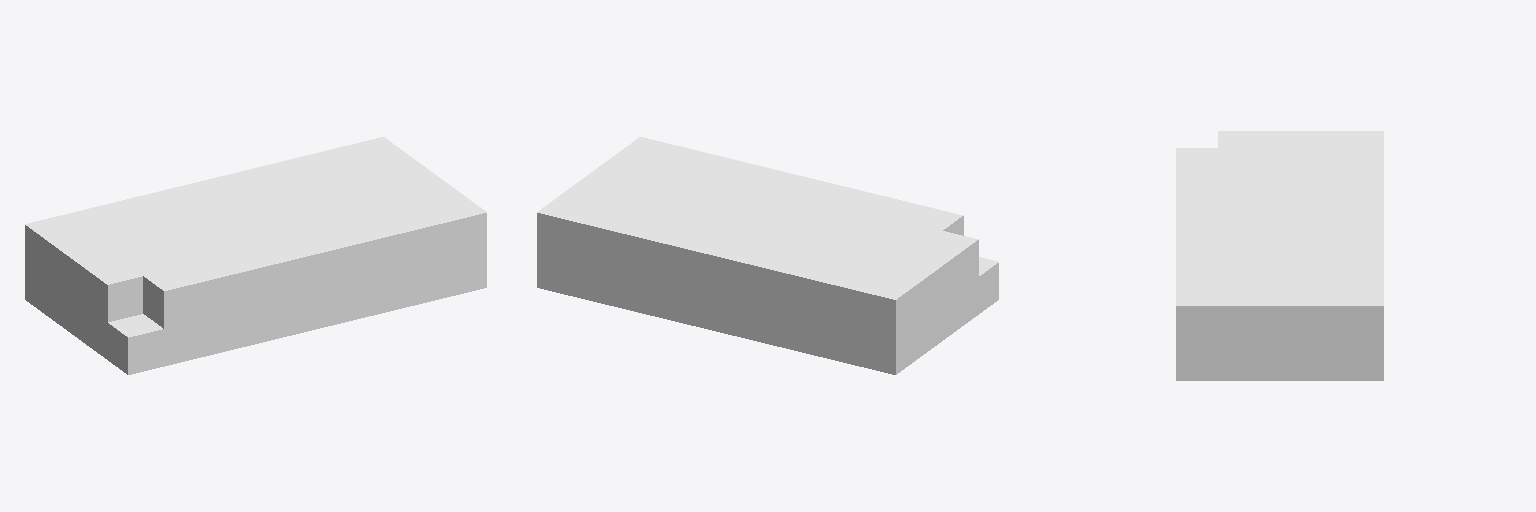
The model's file is platform2.obj.
The picture shows the model from 3 angles: view 1: azimuth 30°, elevation 25°; view 2: azimuth 150°, elevation 25°; view 3: azimuth 270°, elevation 25°; orthographic projection.
Parts seen in each view (by area): view 1: platform2; view 2: platform2; view 3: platform2.
Boxes of the visible parts, <box> form: platform2: <box>25,137,486,374</box>; platform2: <box>537,137,998,374</box>; platform2: <box>1176,131,1383,380</box>.
Bounding box in the file's own units: 10 × 2 × 5.